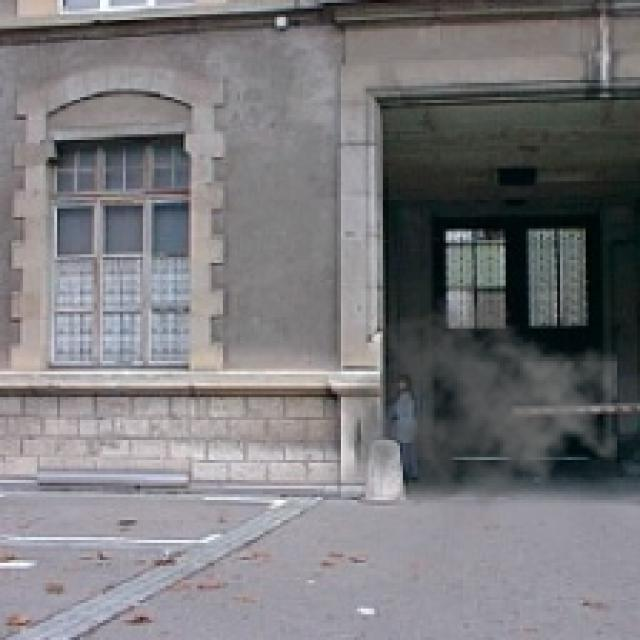Smoke: (340, 294, 617, 523)
